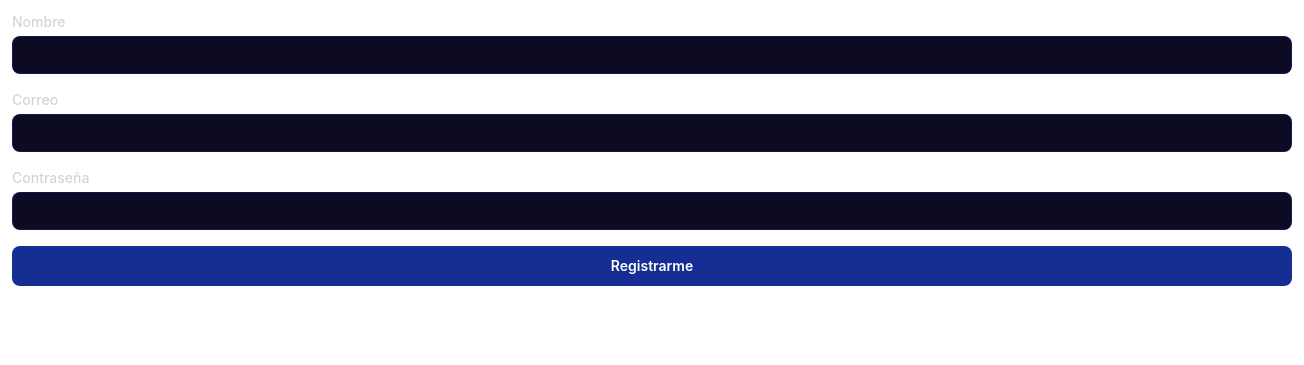
formularios de autenticación › muestra el error recibido al registrar una cuenta
The width and height of the screenshot is (1304, 365).
Type "Ana" into the field labelled "Nombre" at (652, 55), box [12,36,1292,74]
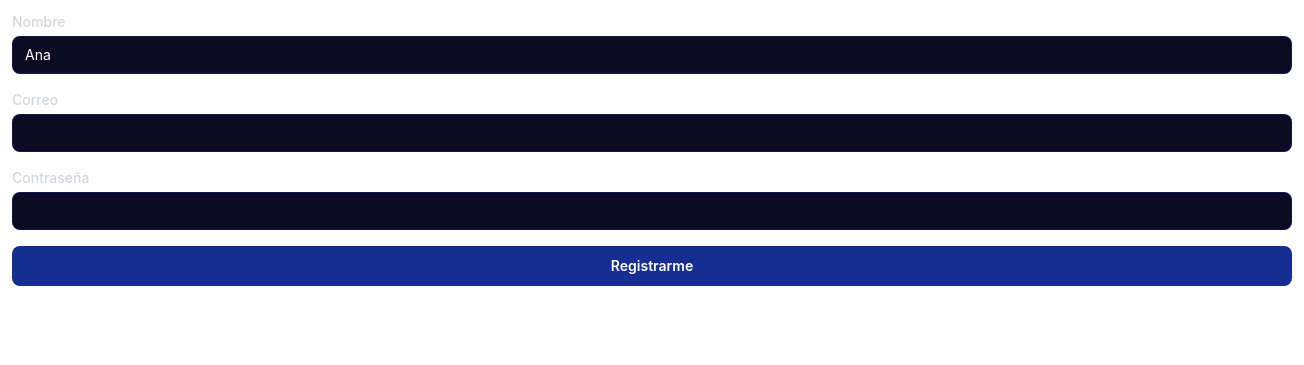
Type "ana@plan.city" into the field labelled "Correo" at (652, 133), box [12,114,1292,152]
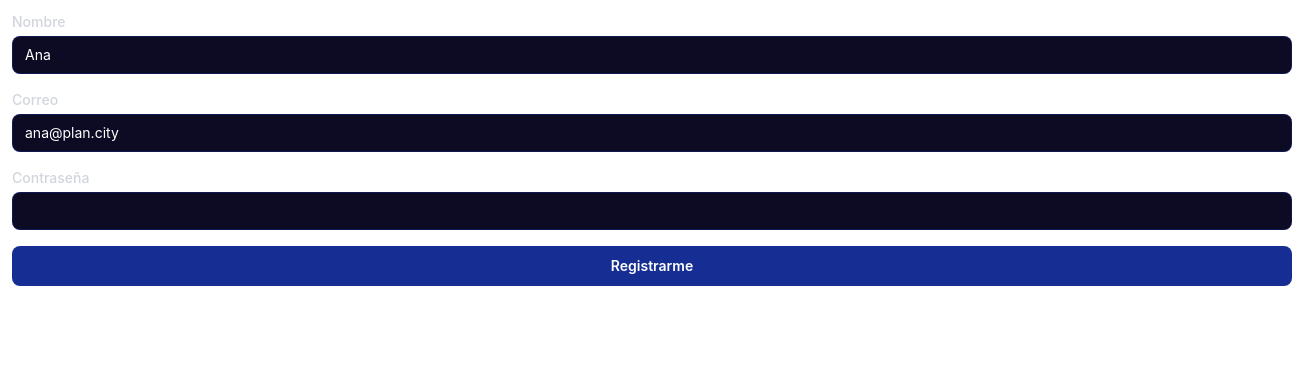
Type "secreto" into the password field labelled "Contraseña" at (652, 211), box [12,192,1292,230]
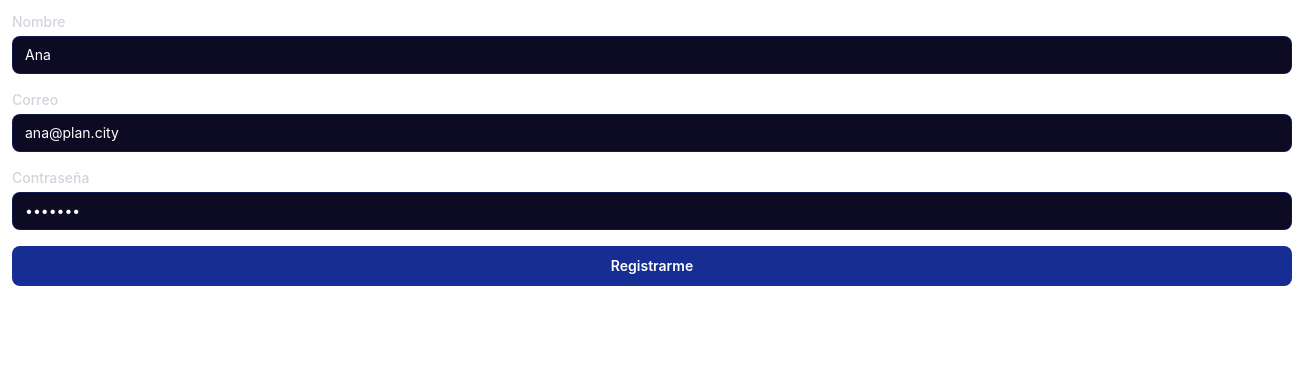
Click the button "Registrarme" at (652, 266), box [12,246,1292,286]
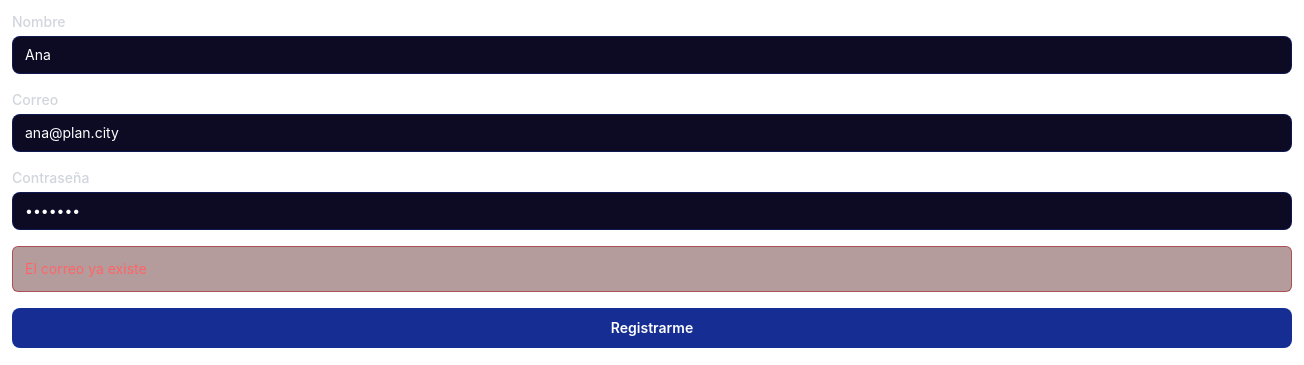
Expected: the text "El correo ya existe" is shown, [12,246,1292,292]
